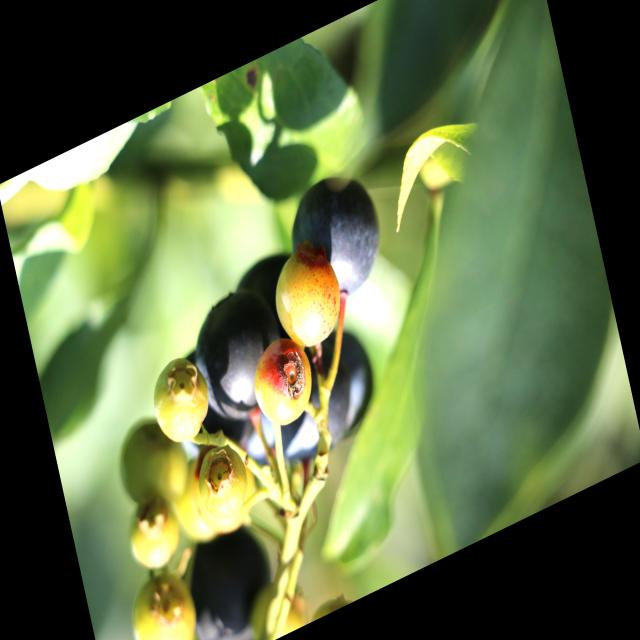blueberry: (182, 270, 294, 440), (279, 152, 394, 317), (255, 343, 359, 479), (177, 505, 280, 640), (305, 314, 384, 448)
blueberry-halfripe: (272, 244, 347, 356), (249, 333, 322, 441)
blueberry-unripe: (112, 409, 190, 523), (144, 347, 218, 459), (191, 431, 255, 534), (124, 562, 205, 640), (119, 492, 181, 579)
